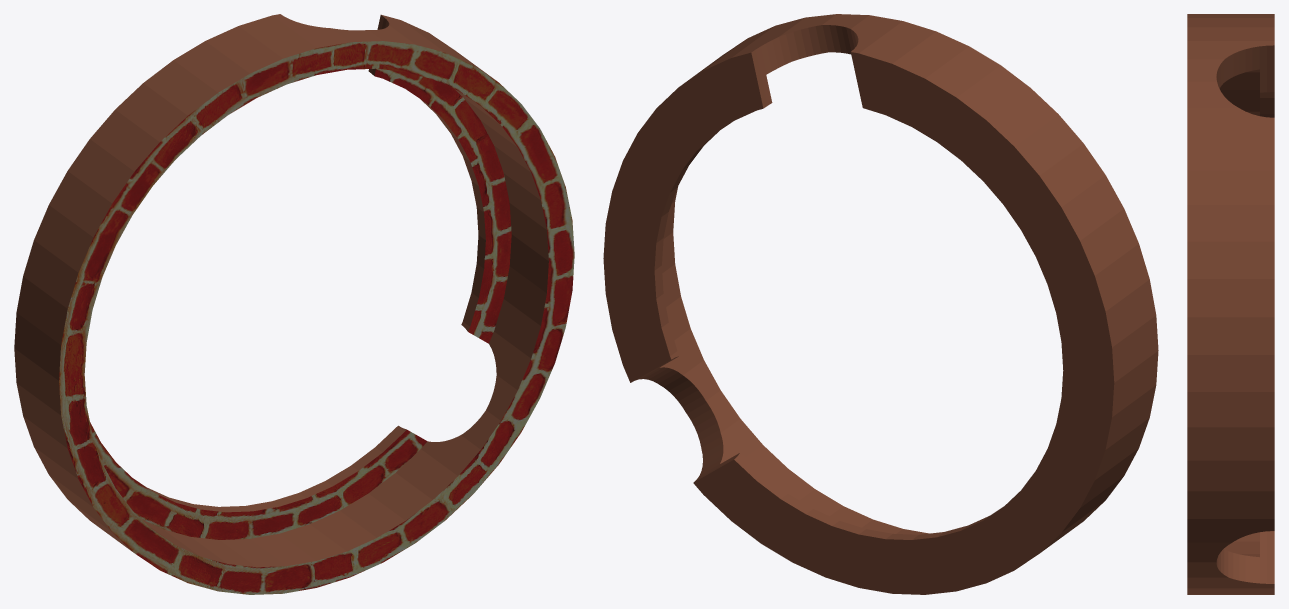
The model's file is pool_018.obj.
3 renders of one model, left to right at view 1: azimuth 30°, elevation 25°; view 2: azimuth 150°, elevation 25°; view 3: azimuth 270°, elevation 25°, orthographic. The views are drawn at different scales.
Size of the model in its own units: 20 by 20 by 3.
